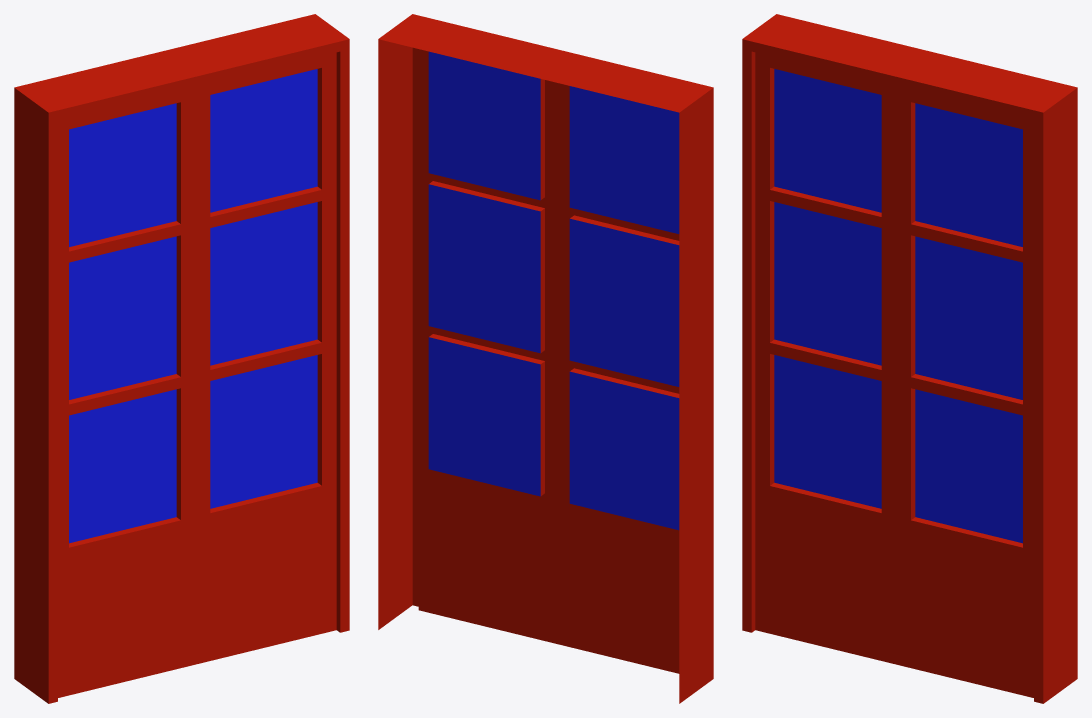
Rendered from wall_door_a.obj.
3 renders of one model, left to right at view 1: azimuth 30°, elevation 25°; view 2: azimuth 150°, elevation 25°; view 3: azimuth 330°, elevation 25°, orthographic.
Parts seen in each view (by area): view 1: wall_door_a; view 2: wall_door_a; view 3: wall_door_a.
Boxes of the visible parts, x1,y1,x2,y2 form: wall_door_a: [14, 14, 349, 703]; wall_door_a: [378, 14, 713, 703]; wall_door_a: [742, 14, 1077, 703].
Bounding box in the file's own units: 1.13 × 2.13 × 0.2241.
